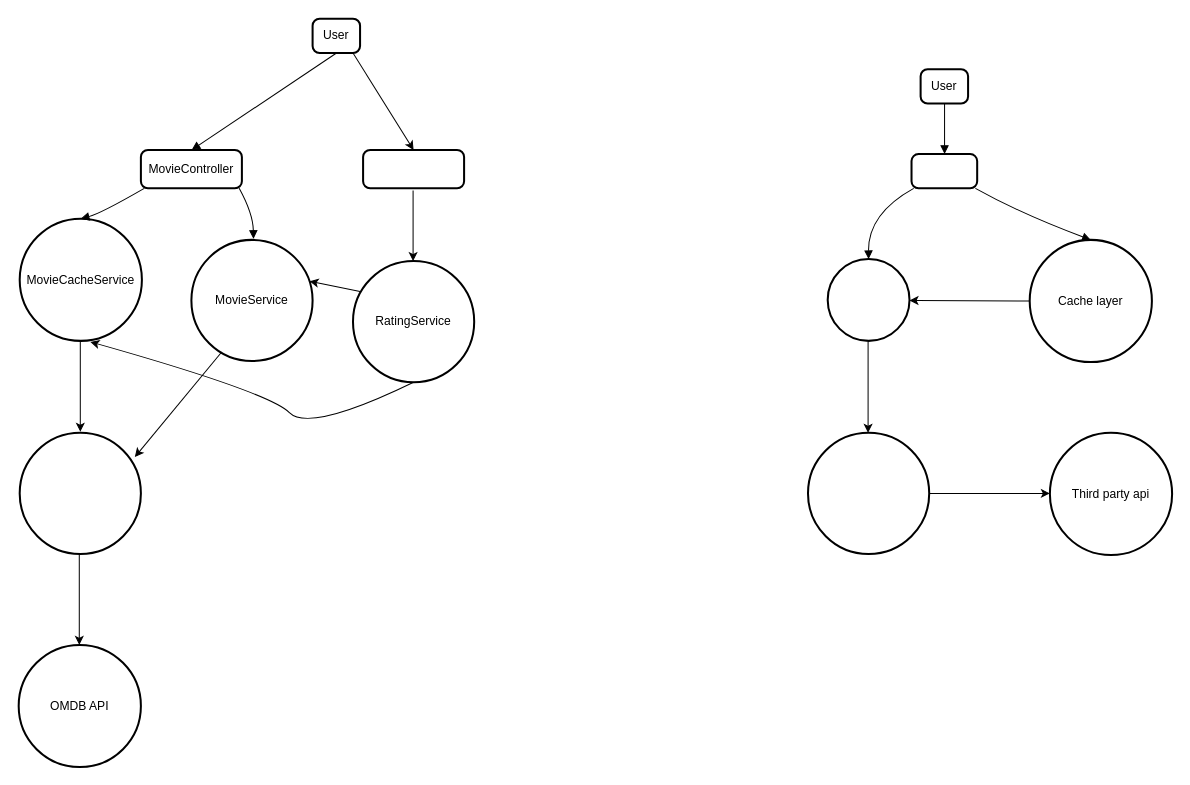
Some shapes in this 1190 by 785 pixel diagram are drawn without their labels. The shapes that lost their labels are listed below. From the top down, each one's box as (x1, y1, x2, y2) in pixels, then its label:
(362, 148, 465, 189): RatingController
(910, 153, 978, 189): Controllers
(826, 258, 910, 341): Service layer
(18, 431, 141, 554): MovieRepository
(806, 431, 930, 554): Database Layer
